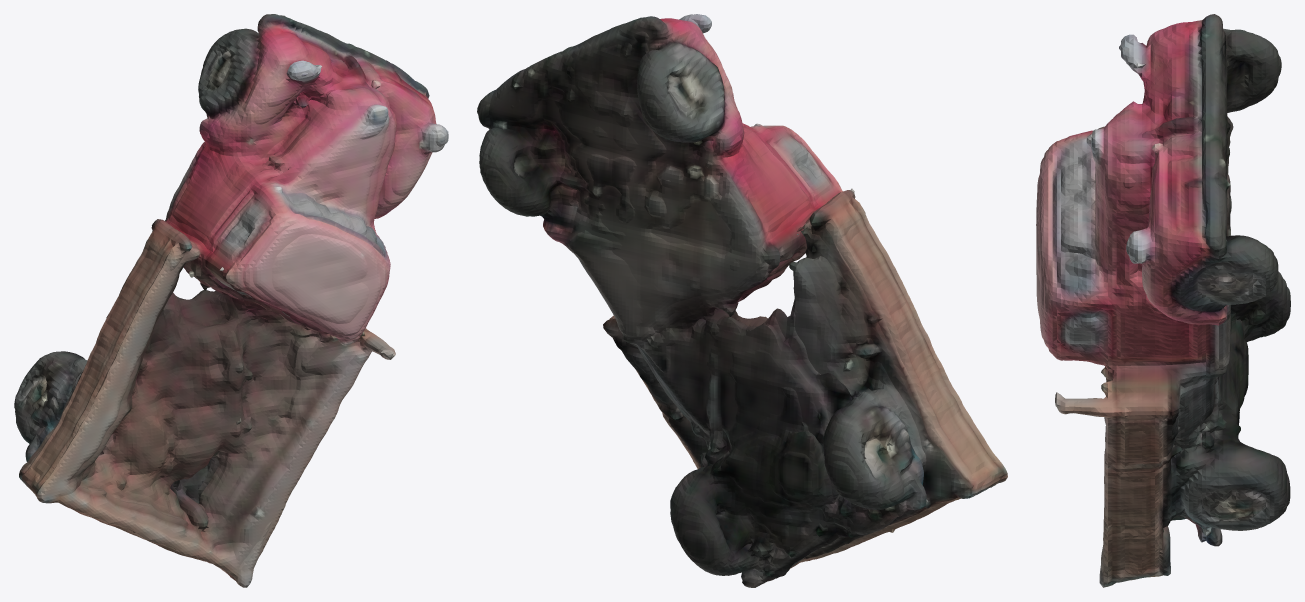
Rendered from 000001_isolated_fargo_truck.glb.
3 views of the same model, side by side, from view 1: azimuth 30°, elevation 25°; view 2: azimuth 150°, elevation 25°; view 3: azimuth 270°, elevation 25° (orthographic). The views are drawn at different scales.
Parts seen in each view (by area): view 1: world; view 2: world; view 3: world.
Boxes of the visible parts, x1,y1,x2,y2 form: world: [14, 14, 448, 587]; world: [477, 14, 1007, 587]; world: [1036, 14, 1290, 587].
Size of the model in its own units: 0.9457 by 1.08 by 0.4075.
